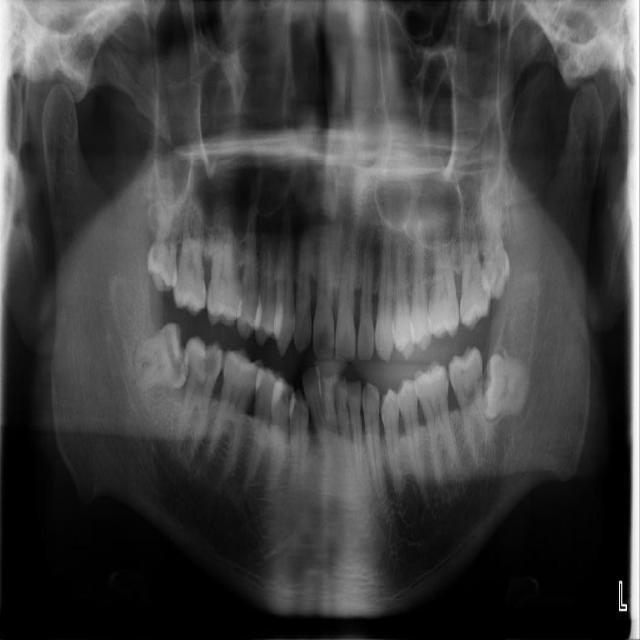3M ESPE Implant: (146, 179, 184, 295)
73: (618, 589, 627, 612)
BioHorizons Implant: (458, 208, 491, 331)
BioLife Implant: (479, 178, 511, 302)
Biomet 3i Implant: (479, 354, 531, 423)
Blue Sky Bio Implant: (445, 343, 498, 465)
Caries: (171, 197, 206, 318)
Implant: (177, 334, 227, 451)
Keystone Dental Implant: (129, 320, 192, 394)
